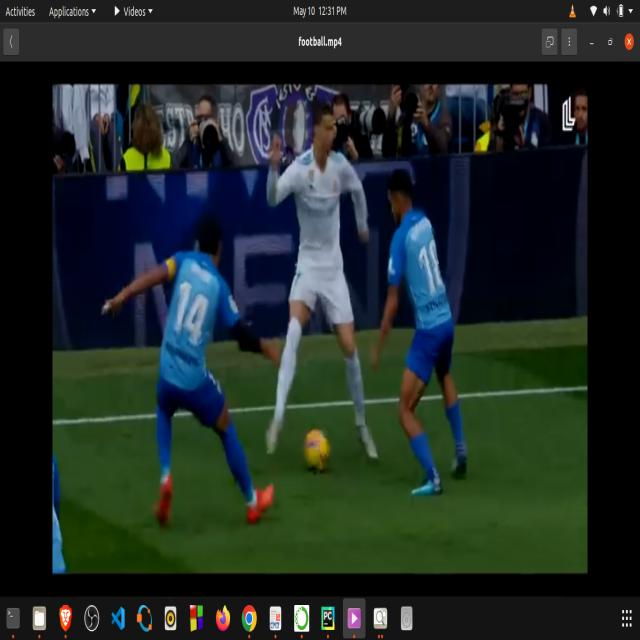Ball: (297, 418, 344, 487)
football-players: (107, 202, 268, 534), (264, 98, 388, 484), (380, 167, 475, 509)
